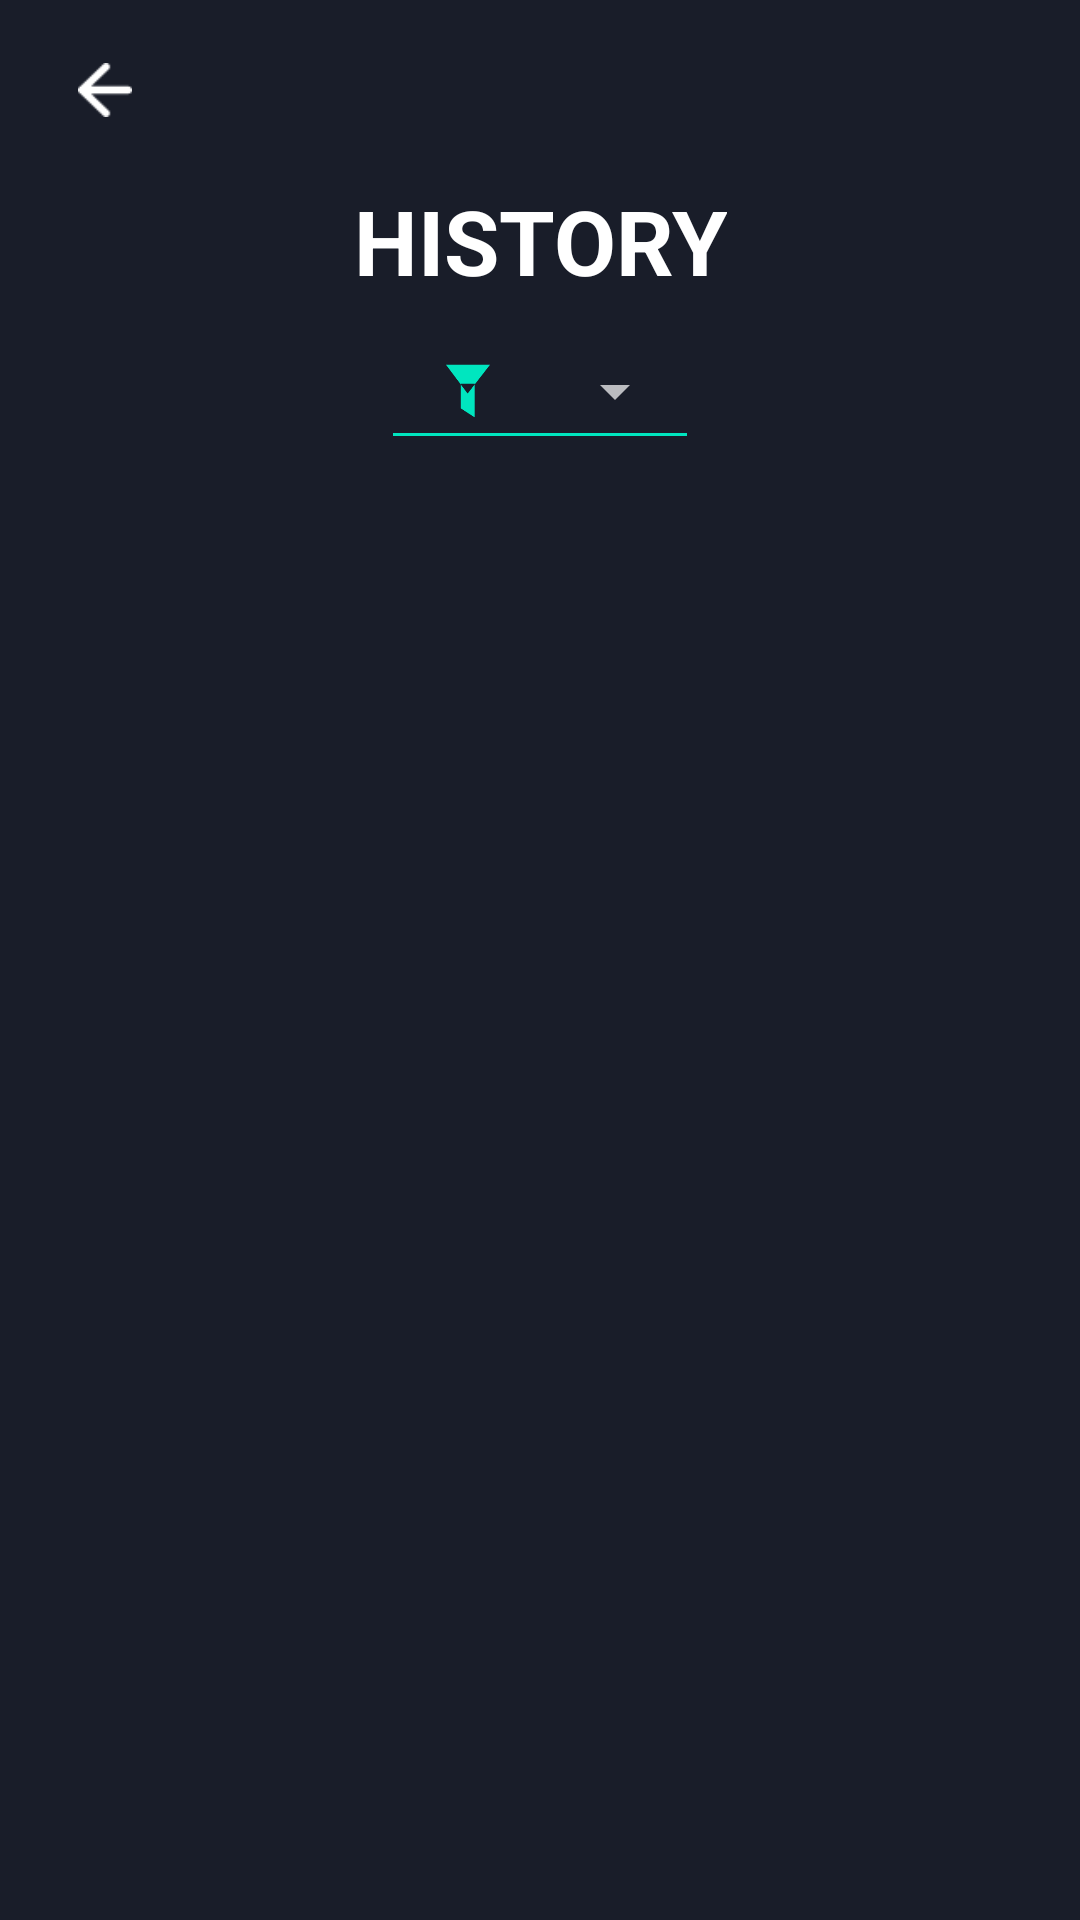

Where to tap for icons on this 1080 x 1920 app screen, as [x,y]:
back: [105,90]
funnel: [468,390]
